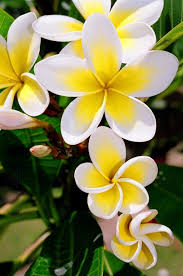frangipani: (75, 128, 157, 219)
